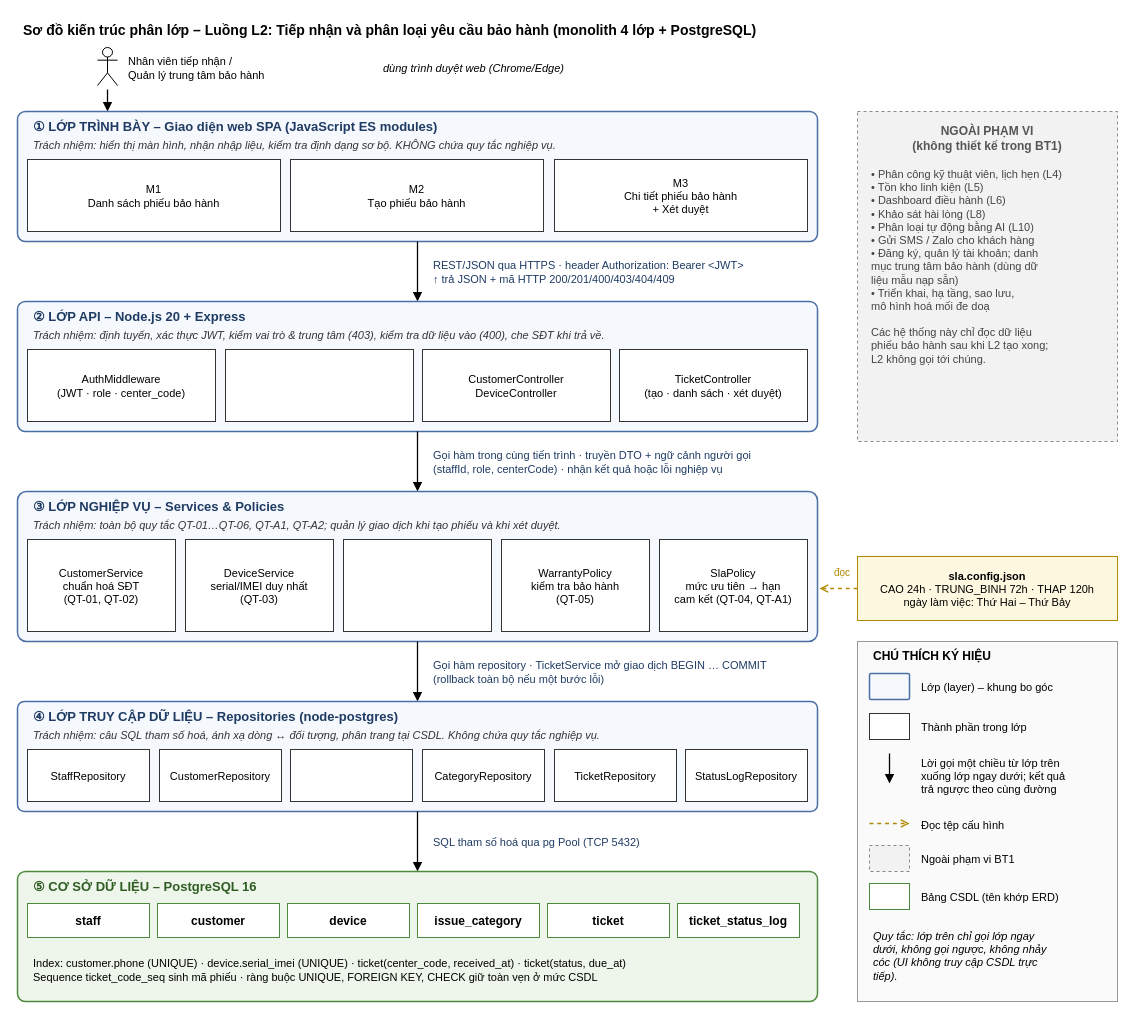
Image size: 1136x1019. Some labels were removed from this diagram. The shapes that lost their labels are listed below. From the top down, each one's centre as x and y in pixels, then its label:
At point 319,385: "Validator (schema request)".
At point 417,585: "TicketService tạo phiếu, xét duyệt, ghi lịch sử (QT-06) 1 giao dịch / thao tác".
At point 351,775: "DeviceRepository".
